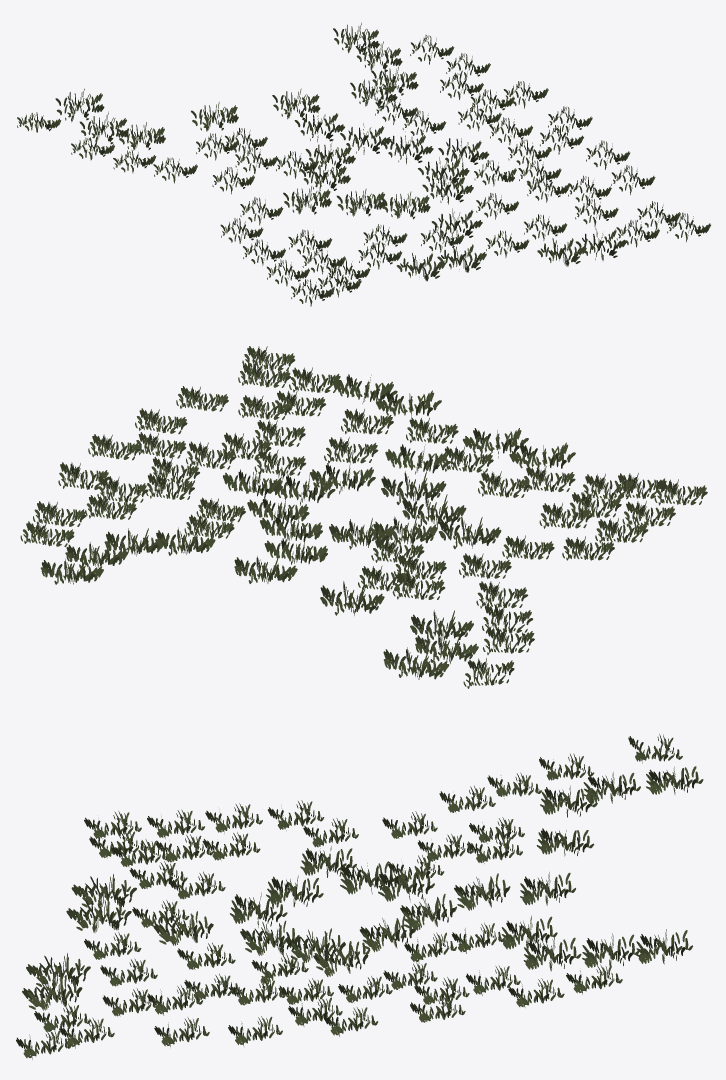
The model's file is Ciudad_piedras02.fbx.
3 renders of one model, top to bottom at view 1: azimuth 30°, elevation 25°; view 2: azimuth 150°, elevation 25°; view 3: azimuth 270°, elevation 25°, orthographic. The views are drawn at different scales.
Parts seen in each view (by area): view 1: Ciudad_piedras02; view 2: Ciudad_piedras02; view 3: Ciudad_piedras02.
Part boxes in pixels (box(x1,y1,x2,y2)): Ciudad_piedras02: box(17, 22, 710, 306); Ciudad_piedras02: box(20, 346, 707, 688); Ciudad_piedras02: box(16, 734, 703, 1059).
Size of the model in its own units: 53.24 by 6.67 by 55.28.
